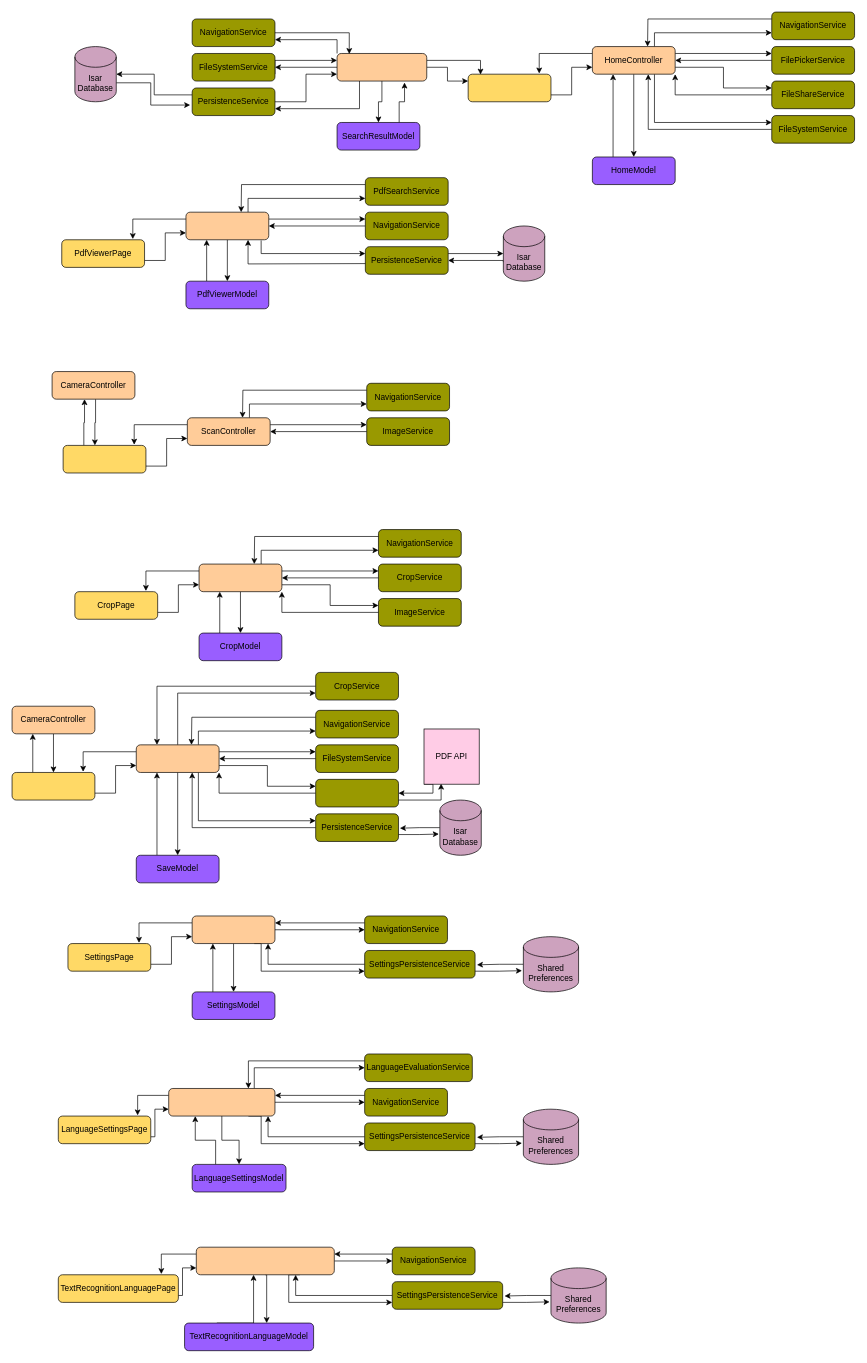
The diagram is 867 pixels wide and 1363 high, and some of its shapes have lost their labels. Each missing label, with the centre of its shape:
"CropController" goes at point (240, 577).
"HomePage" goes at point (509, 87).
"LanguageSettingsController" goes at point (221, 1102).
"OcrService" goes at point (356, 793).
"PdfViewerController" goes at point (227, 225).
"SaveController" goes at point (177, 758).
"SavePage" goes at point (53, 786).
"ScanPage" goes at point (104, 459).
"SearchResultController" goes at point (381, 67).
"SettingsController" goes at point (233, 929).
"TextRecognitionLanguageController" goes at point (265, 1260).
